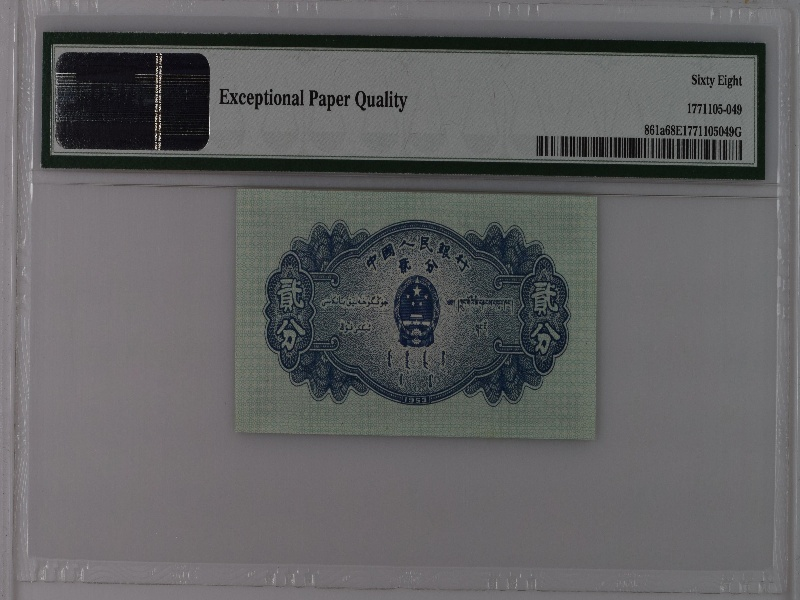papernote: (233, 188, 600, 442)
